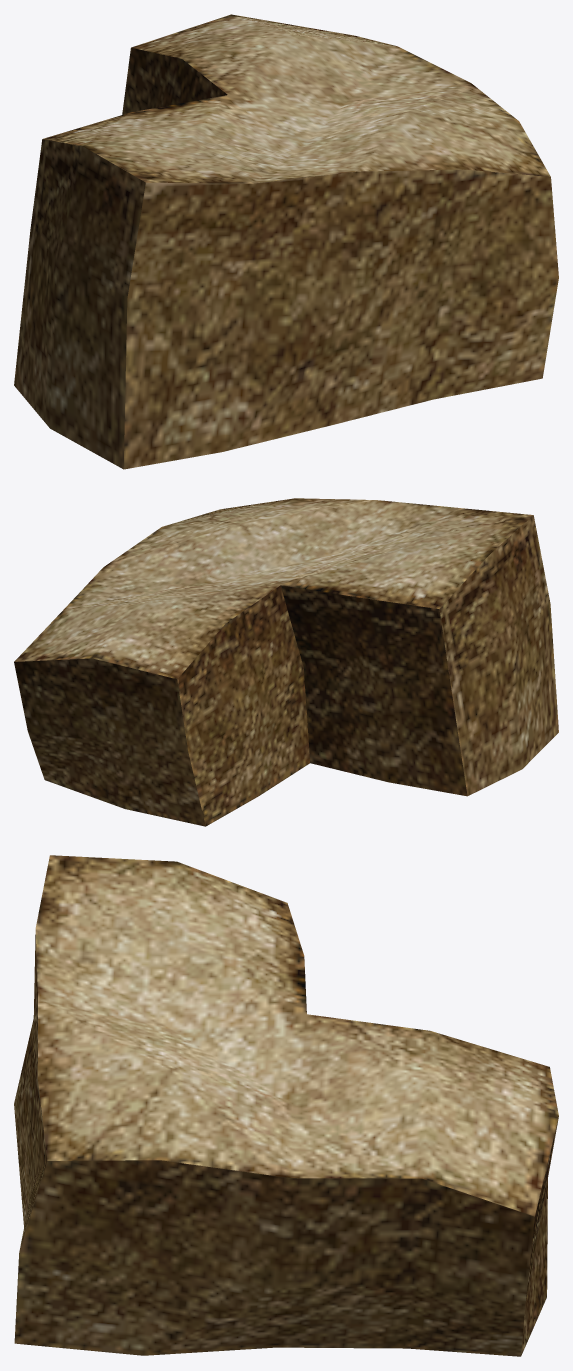
File: ob-bigstone01.glb
The picture shows the model from 3 angles, top to bottom: view 1: azimuth 30°, elevation 25°; view 2: azimuth 150°, elevation 25°; view 3: azimuth 270°, elevation 25°; orthographic projection. The views are drawn at different scales.
Visible parts, largest first — view 1: Sphere01; view 2: Sphere01; view 3: Sphere01.
Boxes of the visible parts, x1,y1,x2,y2 form: Sphere01: (14,14,558,469); Sphere01: (14,498,558,826); Sphere01: (14,855,558,1356).
Size of the model in its own units: 7.09 by 3.9 by 6.6.
Materials: 1 (1 with a texture image).
